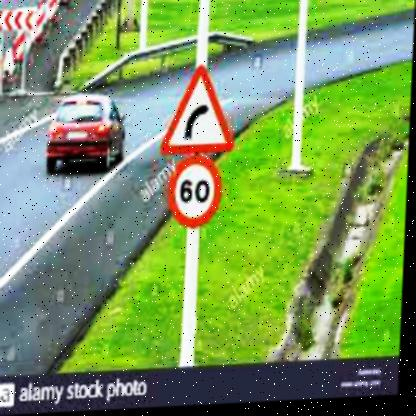Speed Limit -60-: (168, 156, 223, 230)
